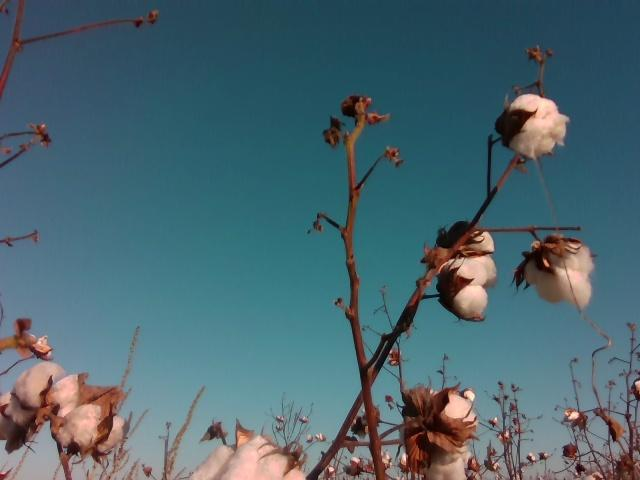cotton_ready: (50, 374, 125, 456), (413, 389, 479, 480), (186, 436, 308, 480), (0, 362, 66, 441), (522, 239, 594, 310), (504, 92, 570, 161), (439, 256, 498, 320), (455, 230, 497, 257)
